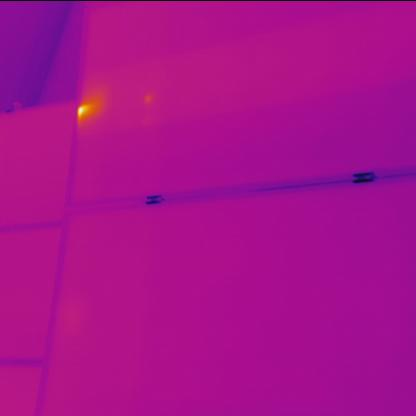hotspot: (76, 88, 104, 122)
